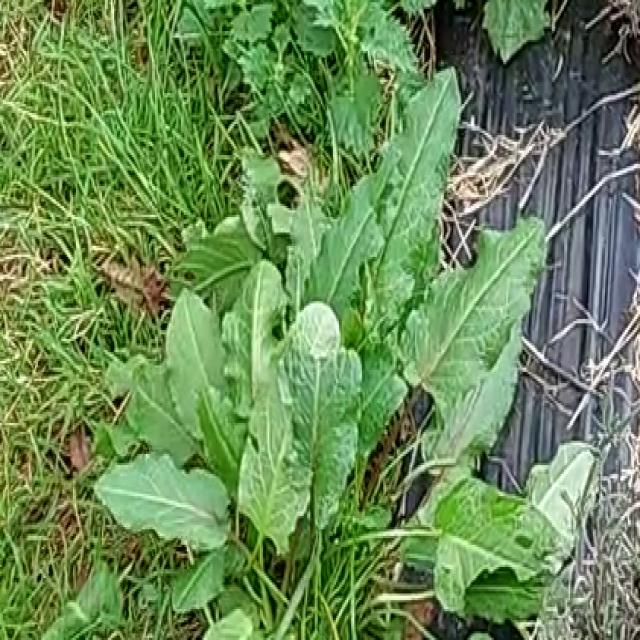organic waste: (82, 91, 560, 596)
